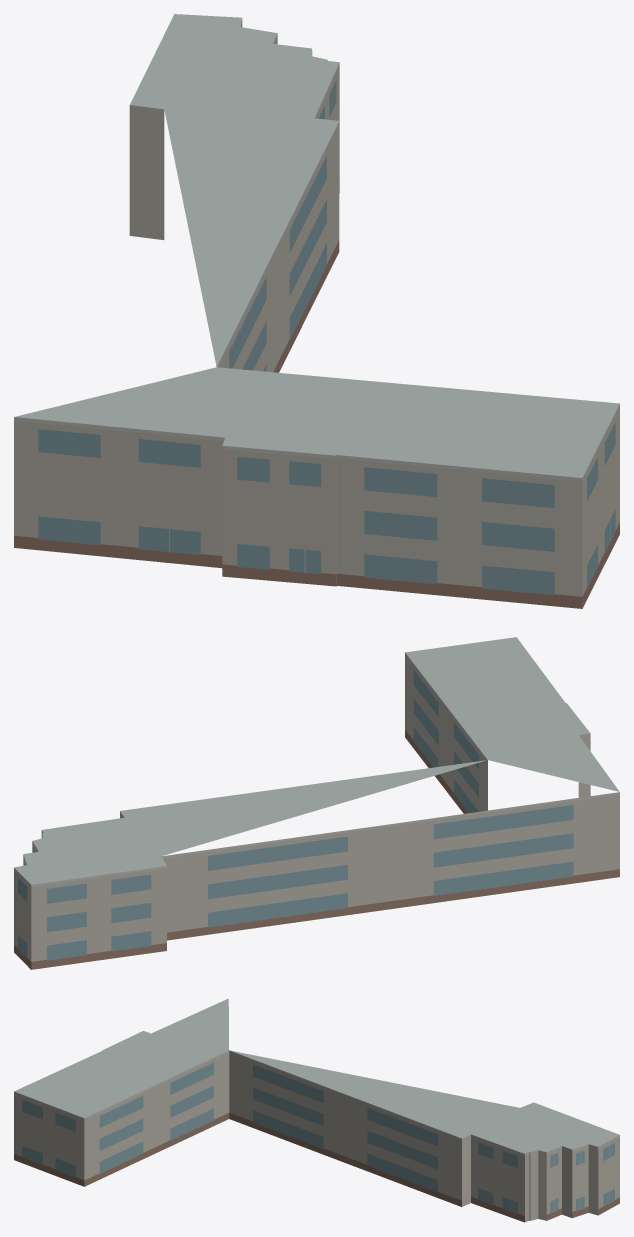
Rendered from survey-upis-32771044.glb.
The picture shows the model from 3 angles, top to bottom: view 1: azimuth 30°, elevation 25°; view 2: azimuth 150°, elevation 25°; view 3: azimuth 270°, elevation 25°; orthographic projection. The views are drawn at different scales.
Parts seen in each view (by area): view 1: survey-upis-32771044.tmp; view 2: survey-upis-32771044.tmp; view 3: survey-upis-32771044.tmp.
Part boxes in pixels (x1=…): survey-upis-32771044.tmp: x1=14, y1=14, x2=619, y2=608; survey-upis-32771044.tmp: x1=14, y1=637, x2=619, y2=969; survey-upis-32771044.tmp: x1=14, y1=998, x2=619, y2=1222.
Size of the model in its own units: 44.48 by 9.15 by 73.21.
